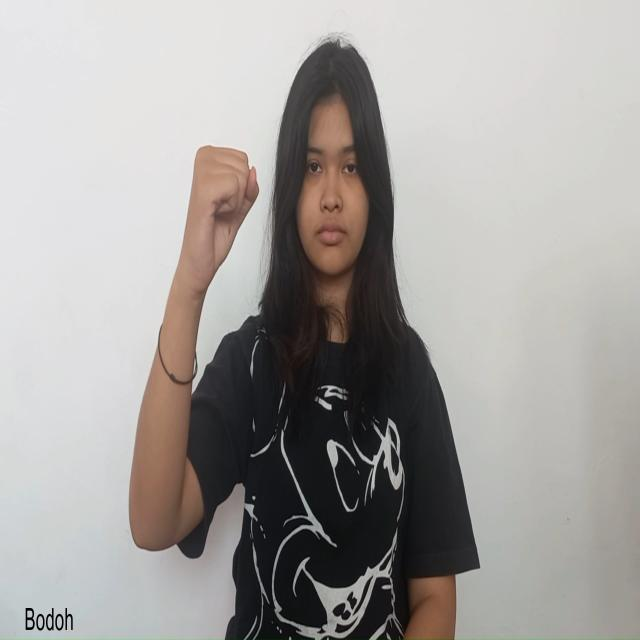Bodoh -BISINDO-: (180, 140, 261, 290)
